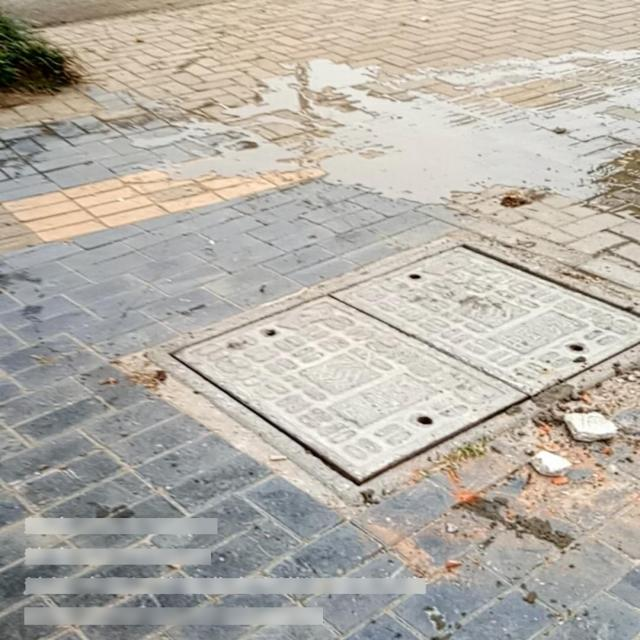Good: (143, 228, 639, 506)
